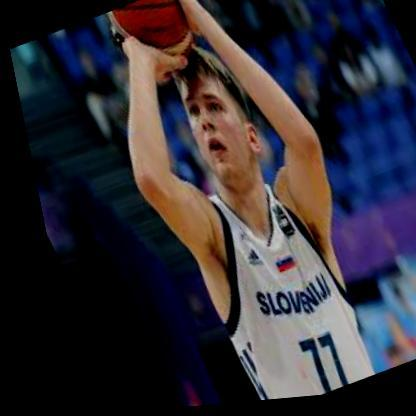basketball: (105, 0, 213, 77)
